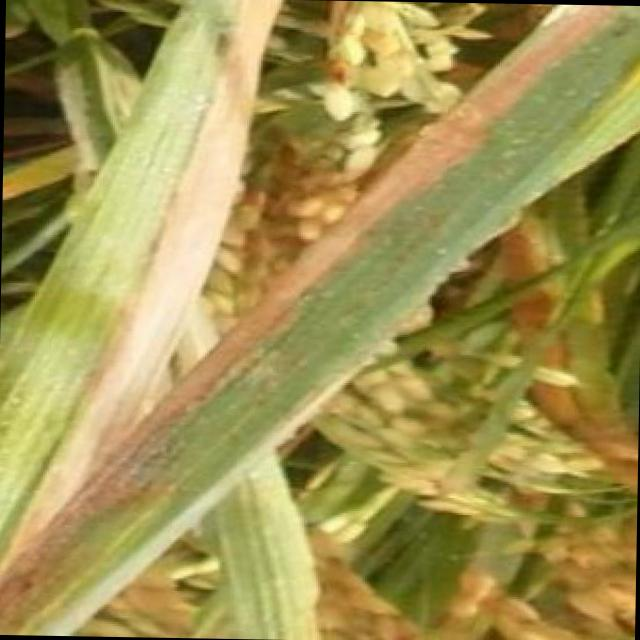Rice_Bacterial_Blight: (426, 1, 640, 210)
